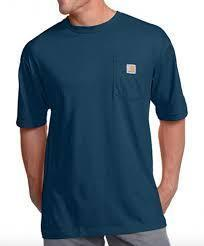Tshirt: (15, 11, 189, 240)
